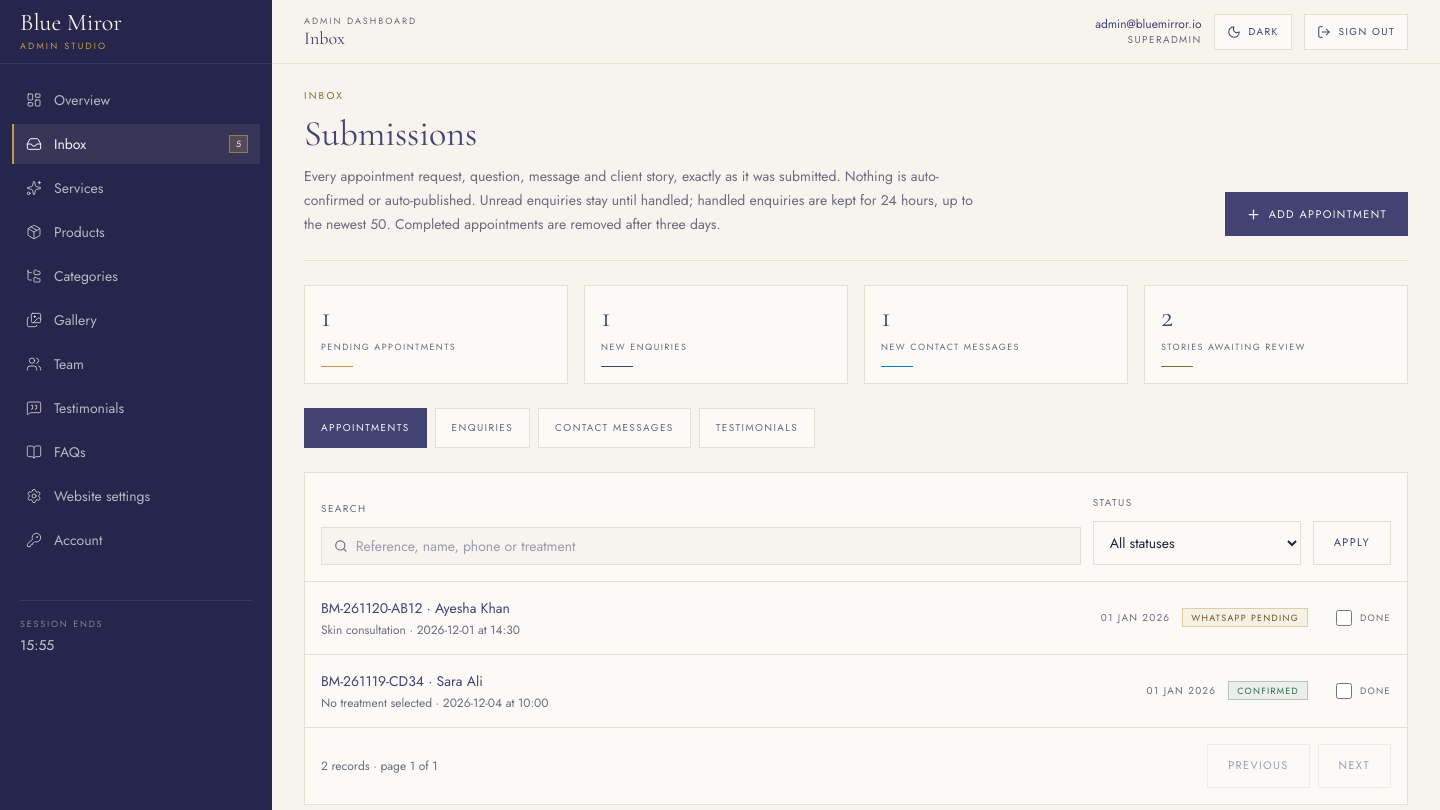
Inbox page › filters by status
Expected: the text "BM-261120-AB12 · Ayesha Khan" is shown, [321, 598, 520, 618]
Select "Confirmed" in the dropdown labelled "Status" at (1197,542), box [1093, 520, 1301, 564]
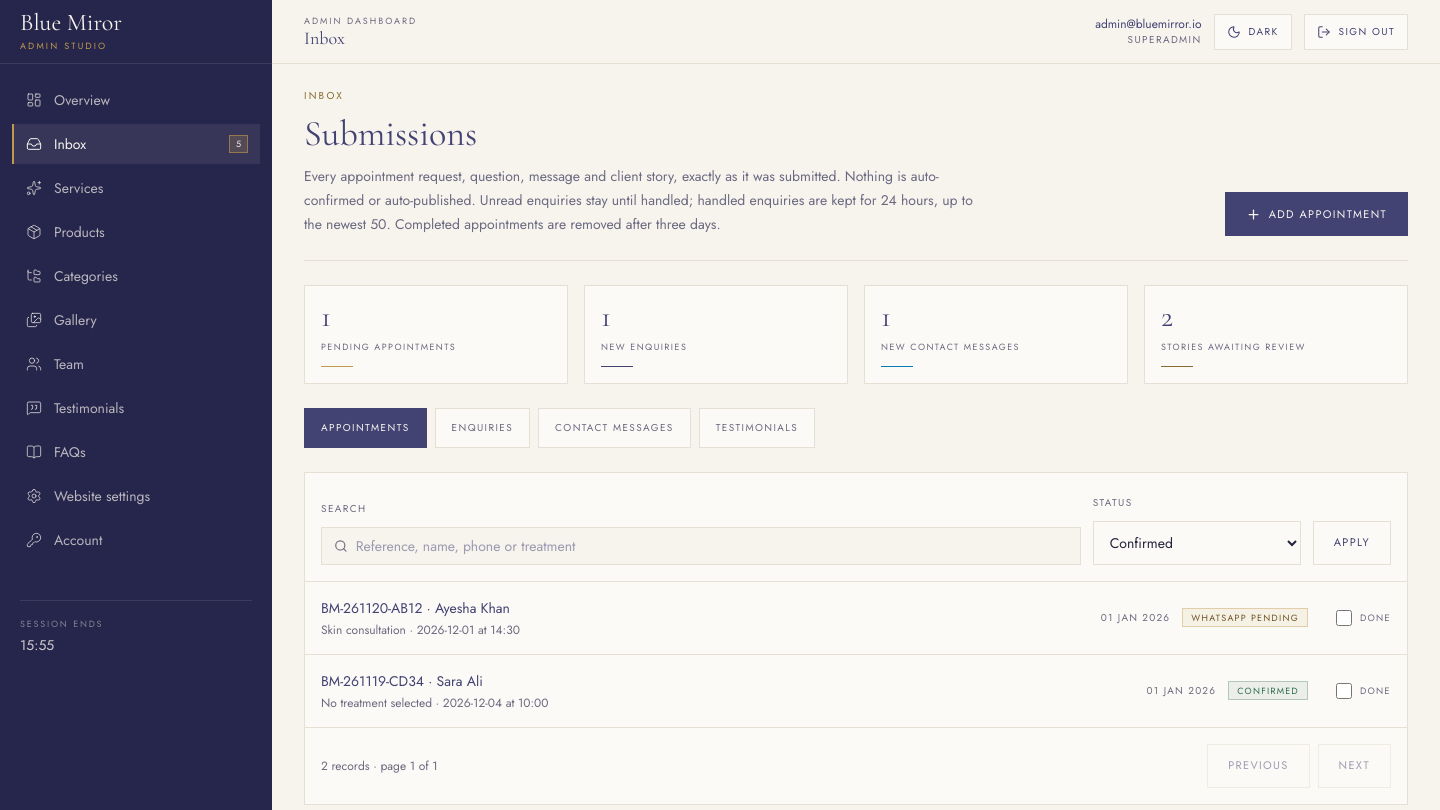
Click the button "Apply".
click(1352, 542)  # box [1313, 520, 1391, 564]
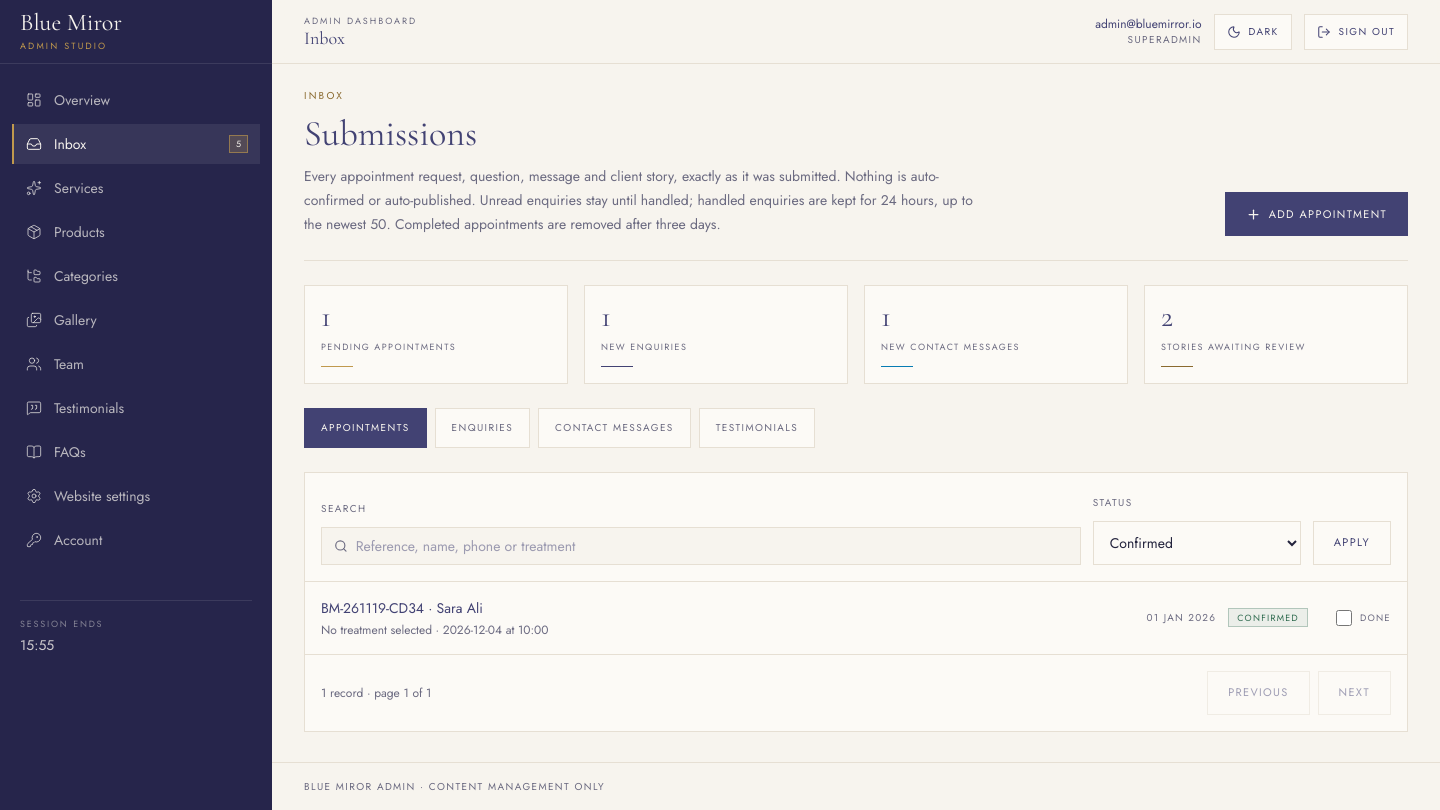
Expected: the text "BM-261119-CD34 · Sara Ali" is shown, [321, 598, 483, 618]
Result: the button "BM-261120-AB12 · Ayesha Khan" is gone
